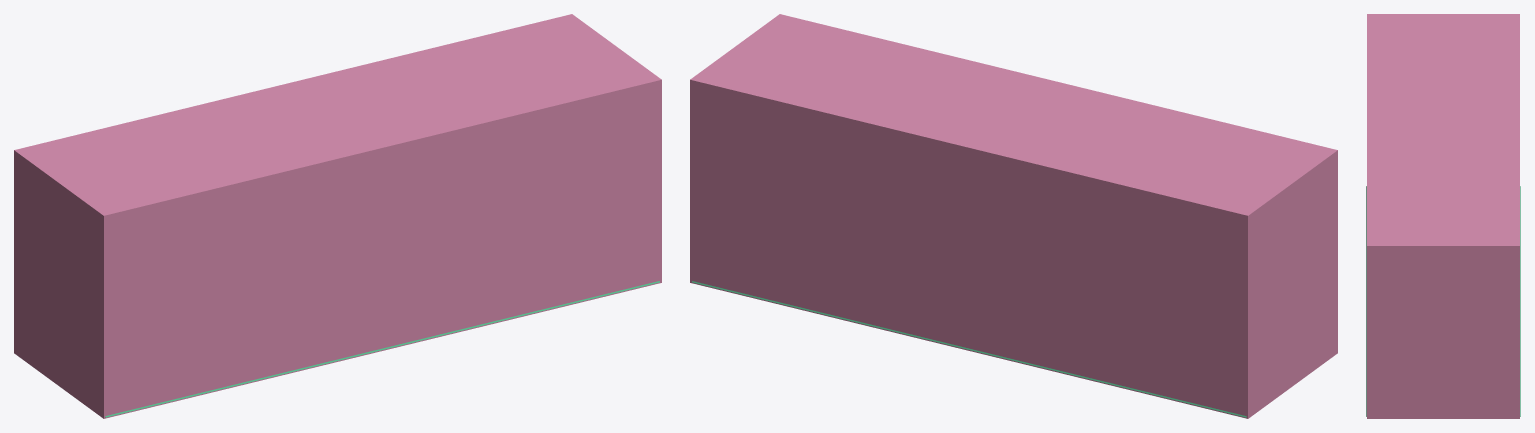
The model's file is RoadBarrier-01a.dae.
3 views of the same model, side by side, from view 1: azimuth 30°, elevation 25°; view 2: azimuth 150°, elevation 25°; view 3: azimuth 270°, elevation 25° (orthographic). The views are drawn at different scales.
Parts seen in each view (by area): view 1: Untitled, Colmesh-1; view 2: Untitled, Colmesh-1; view 3: Untitled, Colmesh-1.
Part boxes in pixels (x1=…): Untitled: x1=14, y1=14, x2=661, y2=418; Colmesh-1: x1=105, y1=281, x2=659, y2=417; Untitled: x1=690, y1=14, x2=1337, y2=418; Colmesh-1: x1=692, y1=281, x2=1246, y2=417; Untitled: x1=1367, y1=14, x2=1519, y2=418; Colmesh-1: x1=1366, y1=186, x2=1520, y2=416.
Size of the model in its own units: 2.99 by 0.8392 by 1.04.
